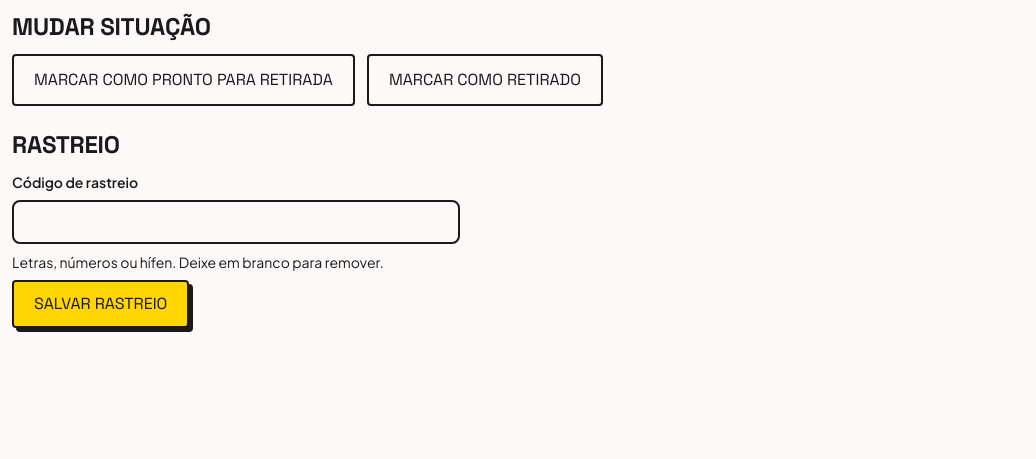
mostra o erro do servidor, como a situação desatualizada
This screenshot has width=1036, height=459.
Click the button "Marcar como Retirado".
click(485, 80)  # box top-left (367, 54), bottom-right (603, 106)
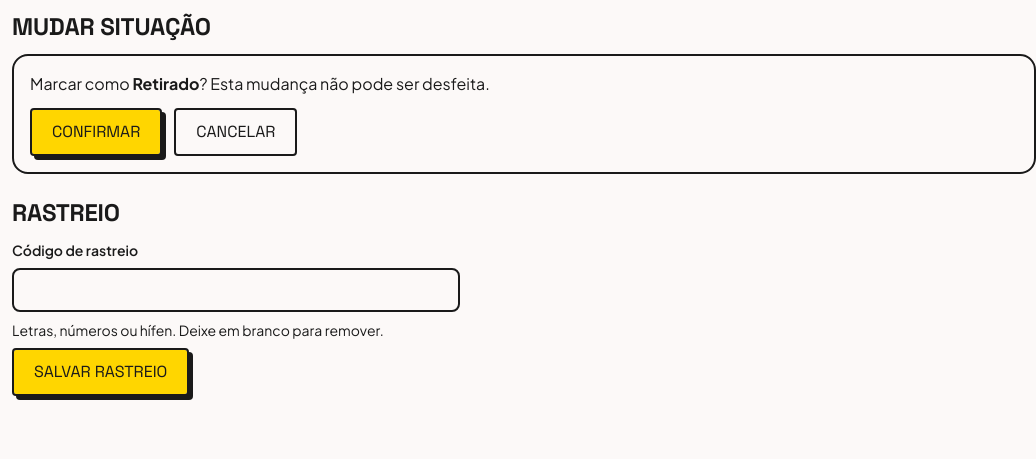
Click the button "Confirmar".
click(96, 132)  # box top-left (30, 108), bottom-right (162, 156)
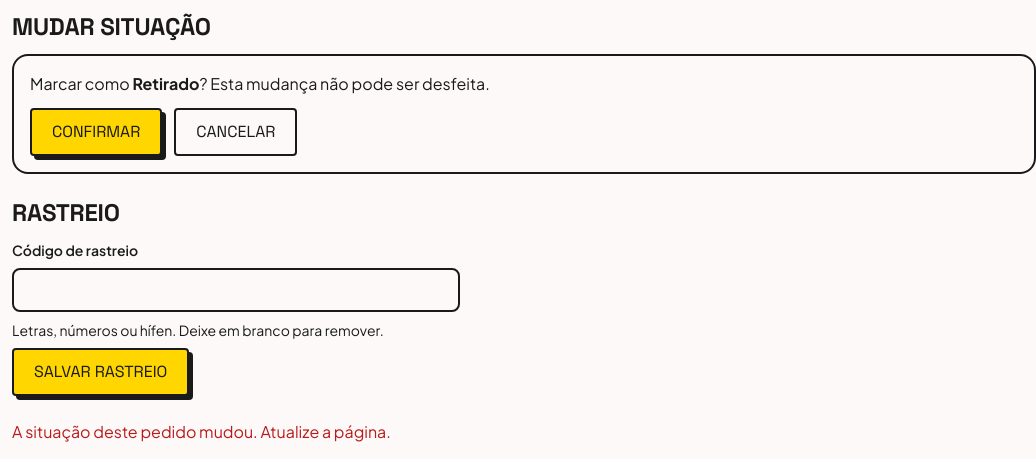
expect the message reads "A situação deste pedido mudou. Atualize a página.": met, box top-left (12, 421), bottom-right (391, 442)
